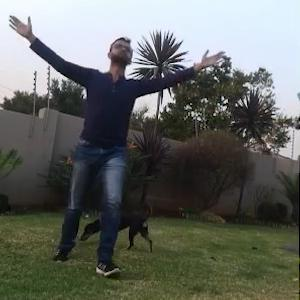takeoff: (11, 41, 200, 254)
